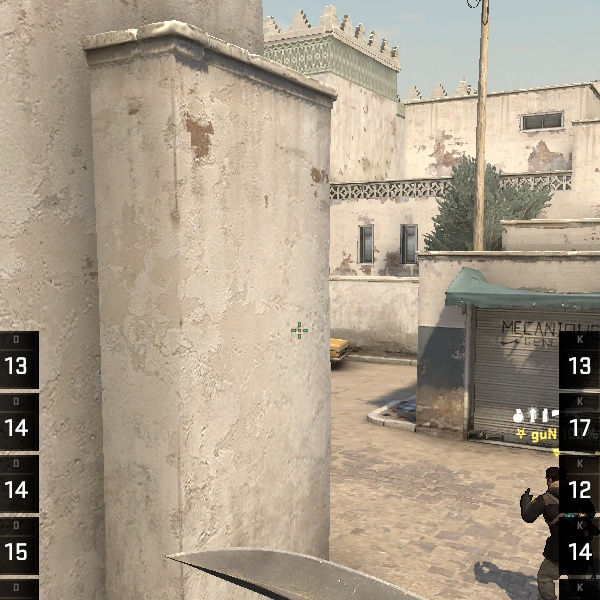t_body: (509, 462, 598, 600)
t_head: (538, 461, 573, 497)
